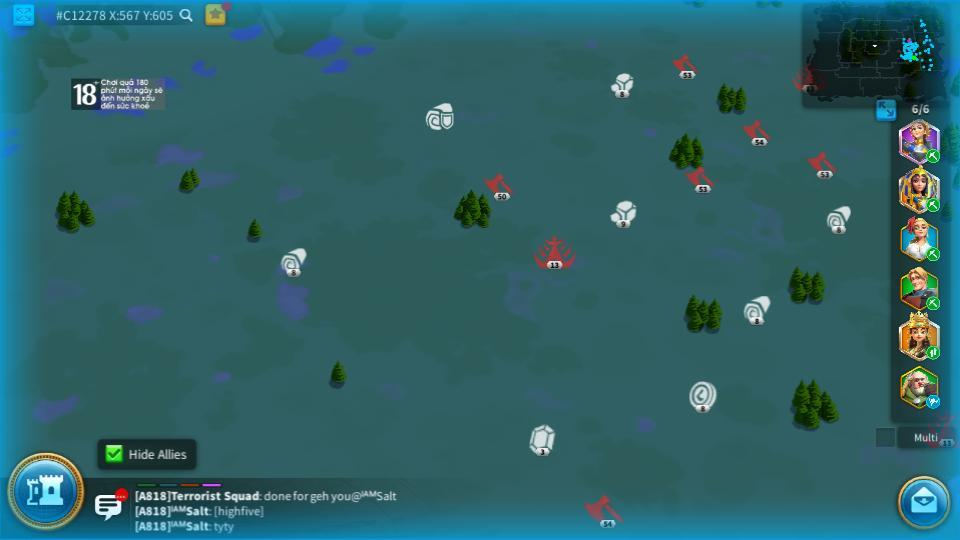gem-z-out: (527, 424, 556, 454)
march_farming: (925, 297, 941, 308)
march_idle: (925, 396, 942, 408)
march_marching: (925, 345, 941, 359), (925, 148, 941, 161), (925, 199, 941, 212)
